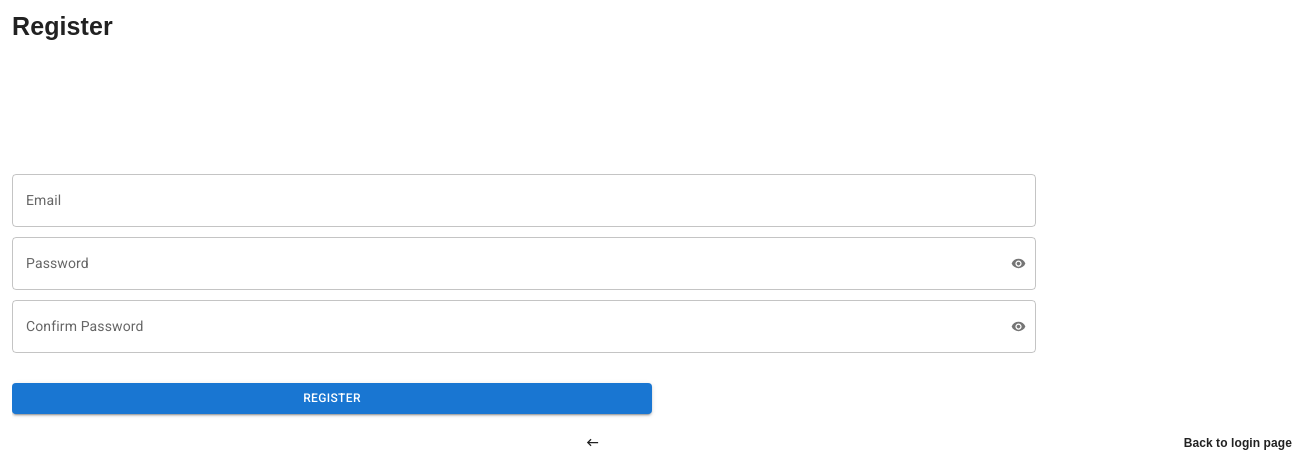
it: testing Register component › register with email and password successful › button behaviour when submit success
Type "test@test.com" into the field labelled "Email" at (524, 200), box [12, 174, 1036, 227]
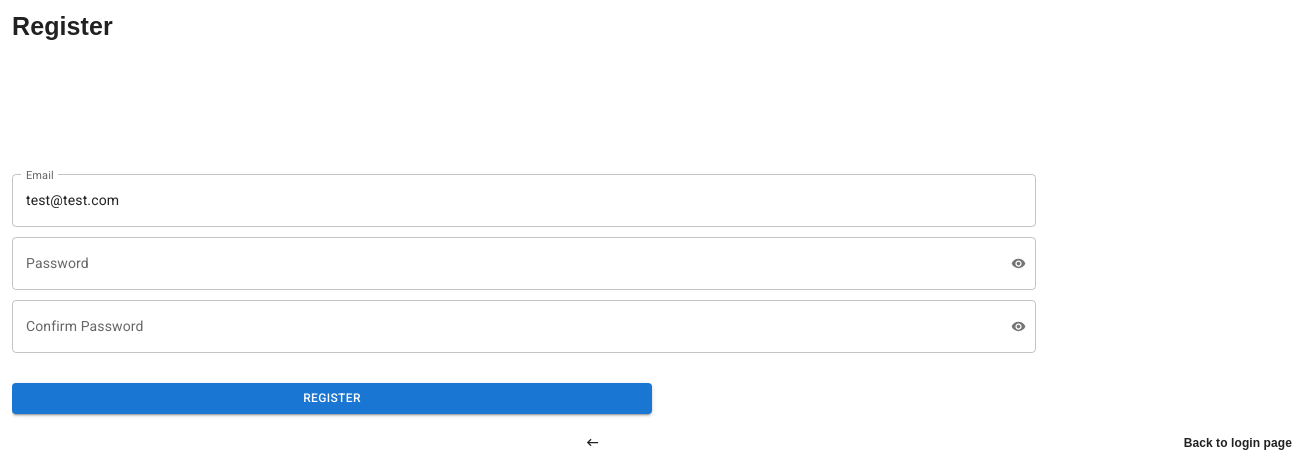
Type "testPassword" into the password field with test id "password" showing "Password" at (504, 263), box [12, 237, 995, 290]
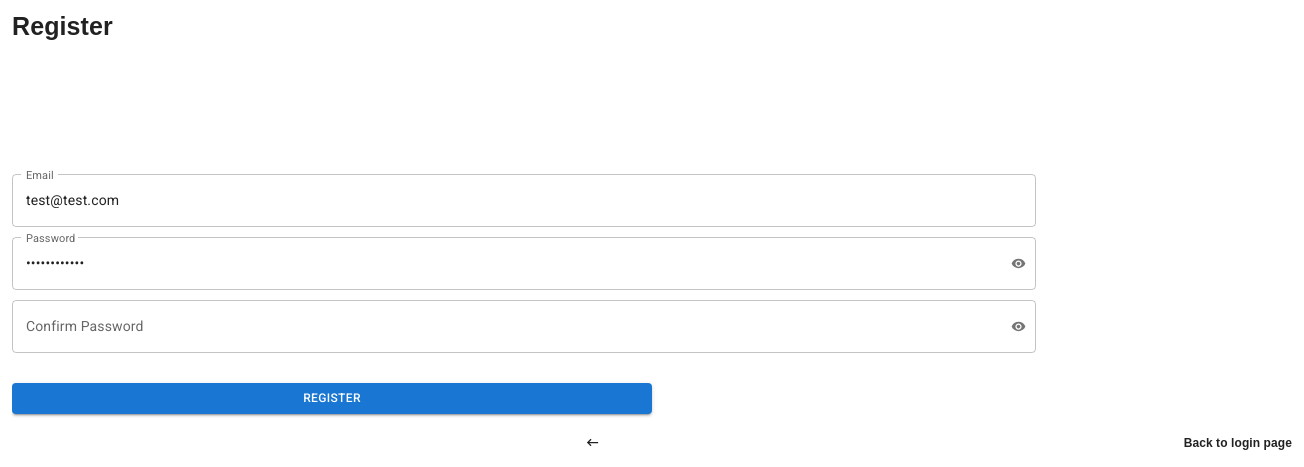
Type "testPassword" into the password field with test id "password" showing "Confirm Password" at (504, 326), box [12, 300, 995, 353]
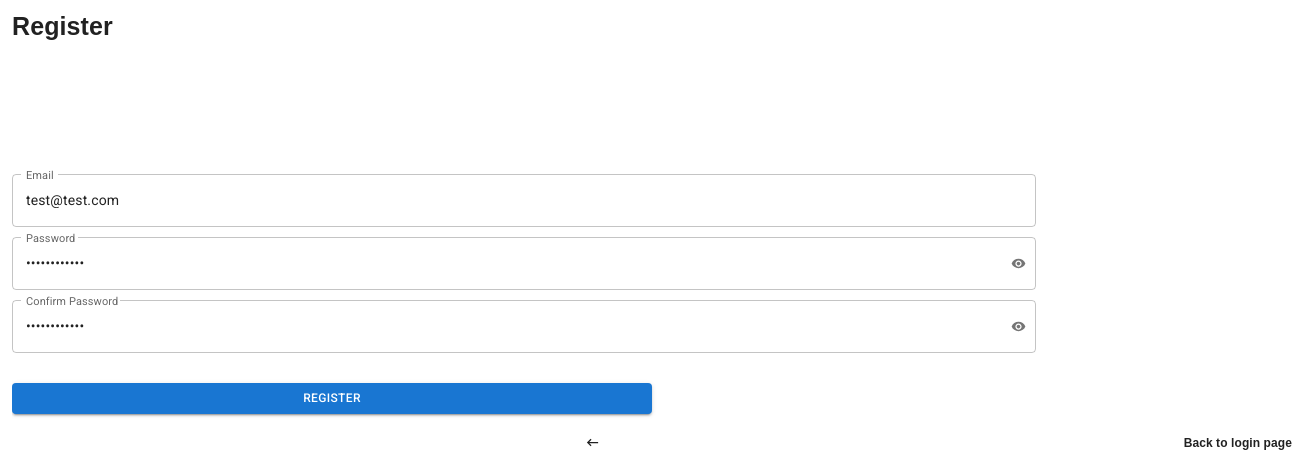
Click the button "Register" at (332, 398), box [12, 383, 652, 414]
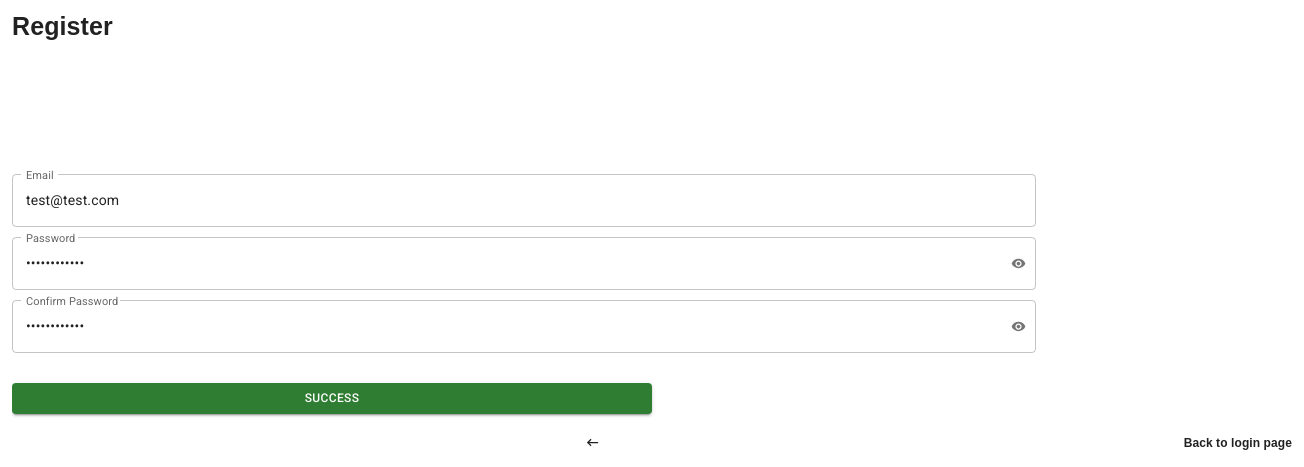
Expected: the button "Success" is shown, [12, 383, 652, 414]
